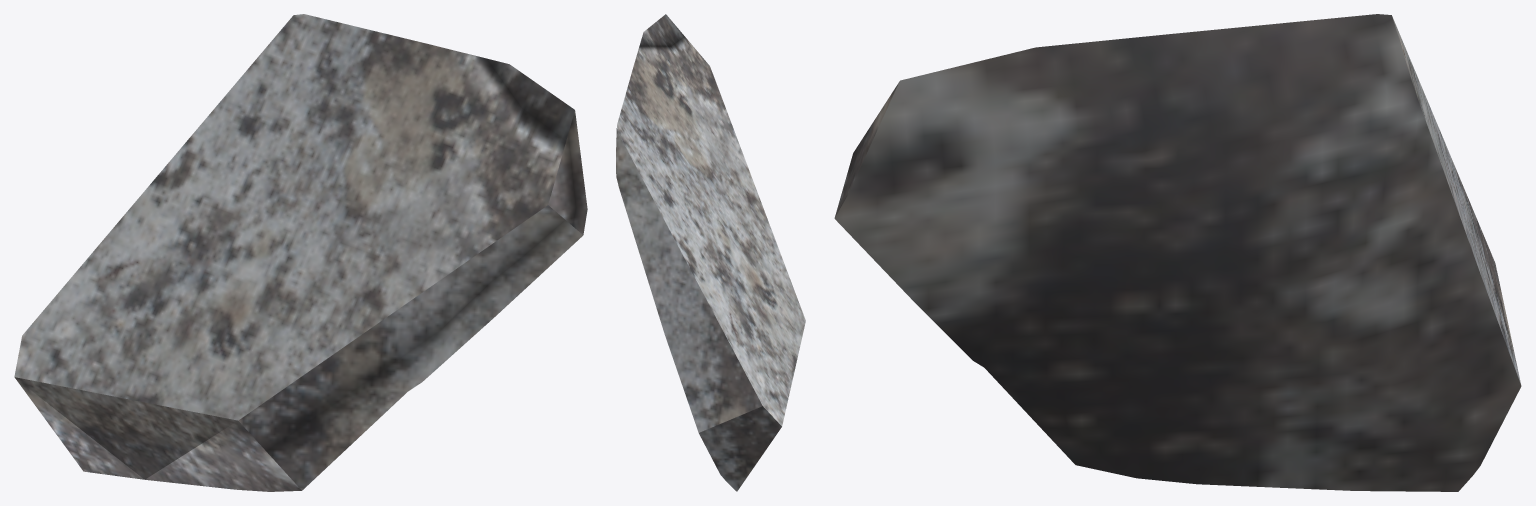
Rendered from Asteroid_Large_001_02_008_03_018.fbx.
The picture shows the model from 3 angles, left to right: view 1: azimuth 30°, elevation 25°; view 2: azimuth 150°, elevation 25°; view 3: azimuth 270°, elevation 25°; orthographic projection. The views are drawn at different scales.
Parts seen in each view (by area): view 1: Asteroid_Large_001_02_008_03_018; view 2: Asteroid_Large_001_02_008_03_018; view 3: Asteroid_Large_001_02_008_03_018.
Boxes of the visible parts, x1,y1,x2,y2 form: Asteroid_Large_001_02_008_03_018: (14, 14, 587, 491); Asteroid_Large_001_02_008_03_018: (616, 14, 805, 491); Asteroid_Large_001_02_008_03_018: (834, 14, 1521, 491).
Bounding box in the file's own units: 5.68 × 6.79 × 6.65.
